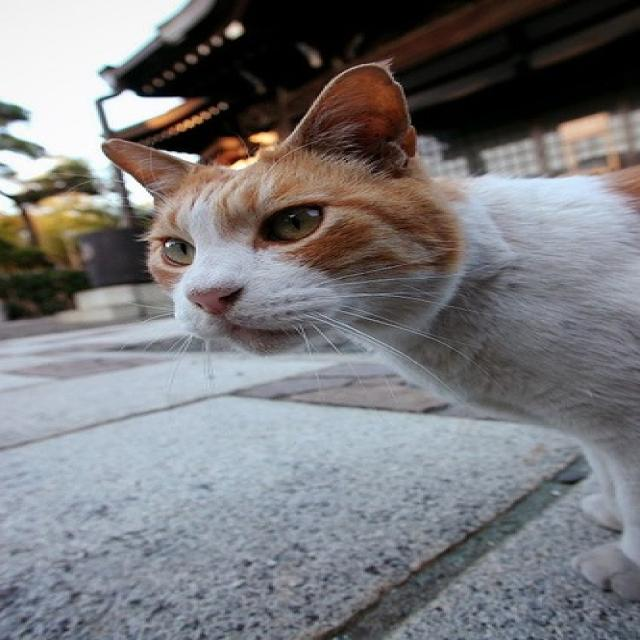cat: (99, 60, 639, 604)
